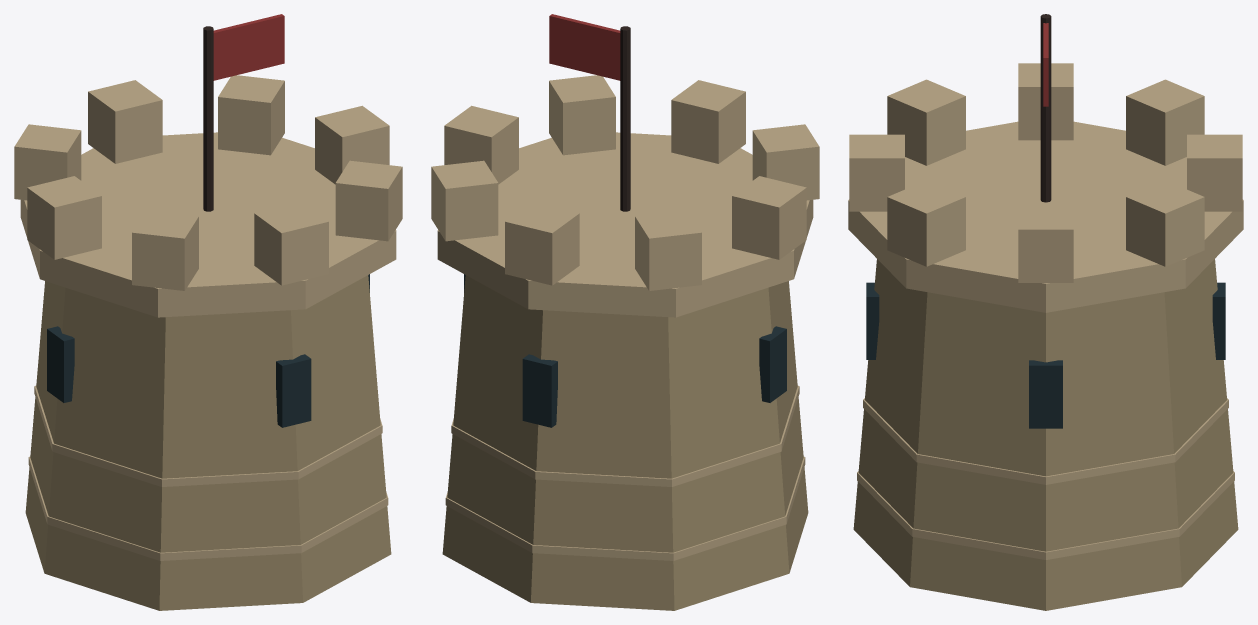
Rendered from PirateCove_FortBastion_Showcase.glb.
3 renders of one model, left to right at view 1: azimuth 30°, elevation 25°; view 2: azimuth 150°, elevation 25°; view 3: azimuth 270°, elevation 25°, orthographic.
Parts seen in each view (by area): view 1: PirateCove_FortBastion_Showcase; view 2: PirateCove_FortBastion_Showcase; view 3: PirateCove_FortBastion_Showcase.
Boxes of the visible parts, left/top/right/bottom form: PirateCove_FortBastion_Showcase: left=14, top=14, right=402, bottom=610; PirateCove_FortBastion_Showcase: left=431, top=14, right=819, bottom=610; PirateCove_FortBastion_Showcase: left=848, top=14, right=1243, bottom=610.
Size of the model in its own units: 3.7 by 5.3 by 3.7.
